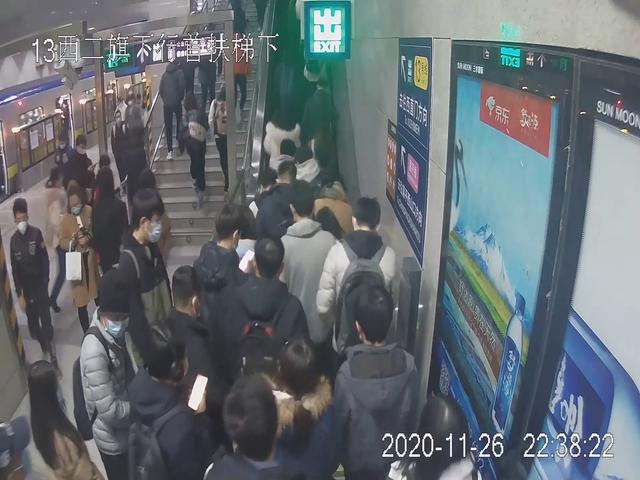person: (338, 282, 429, 480), (230, 228, 315, 427), (179, 197, 263, 387), (321, 198, 414, 369), (79, 272, 155, 479), (271, 173, 338, 402), (109, 187, 181, 373), (4, 194, 64, 373), (53, 190, 117, 335), (178, 94, 214, 211), (211, 83, 241, 201)
